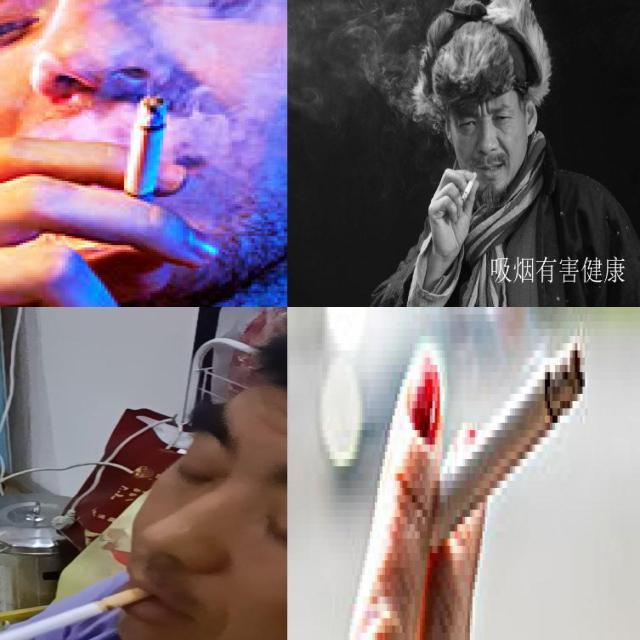smoking: (398, 329, 589, 571), (0, 588, 153, 640), (124, 92, 160, 200), (462, 172, 478, 202)
